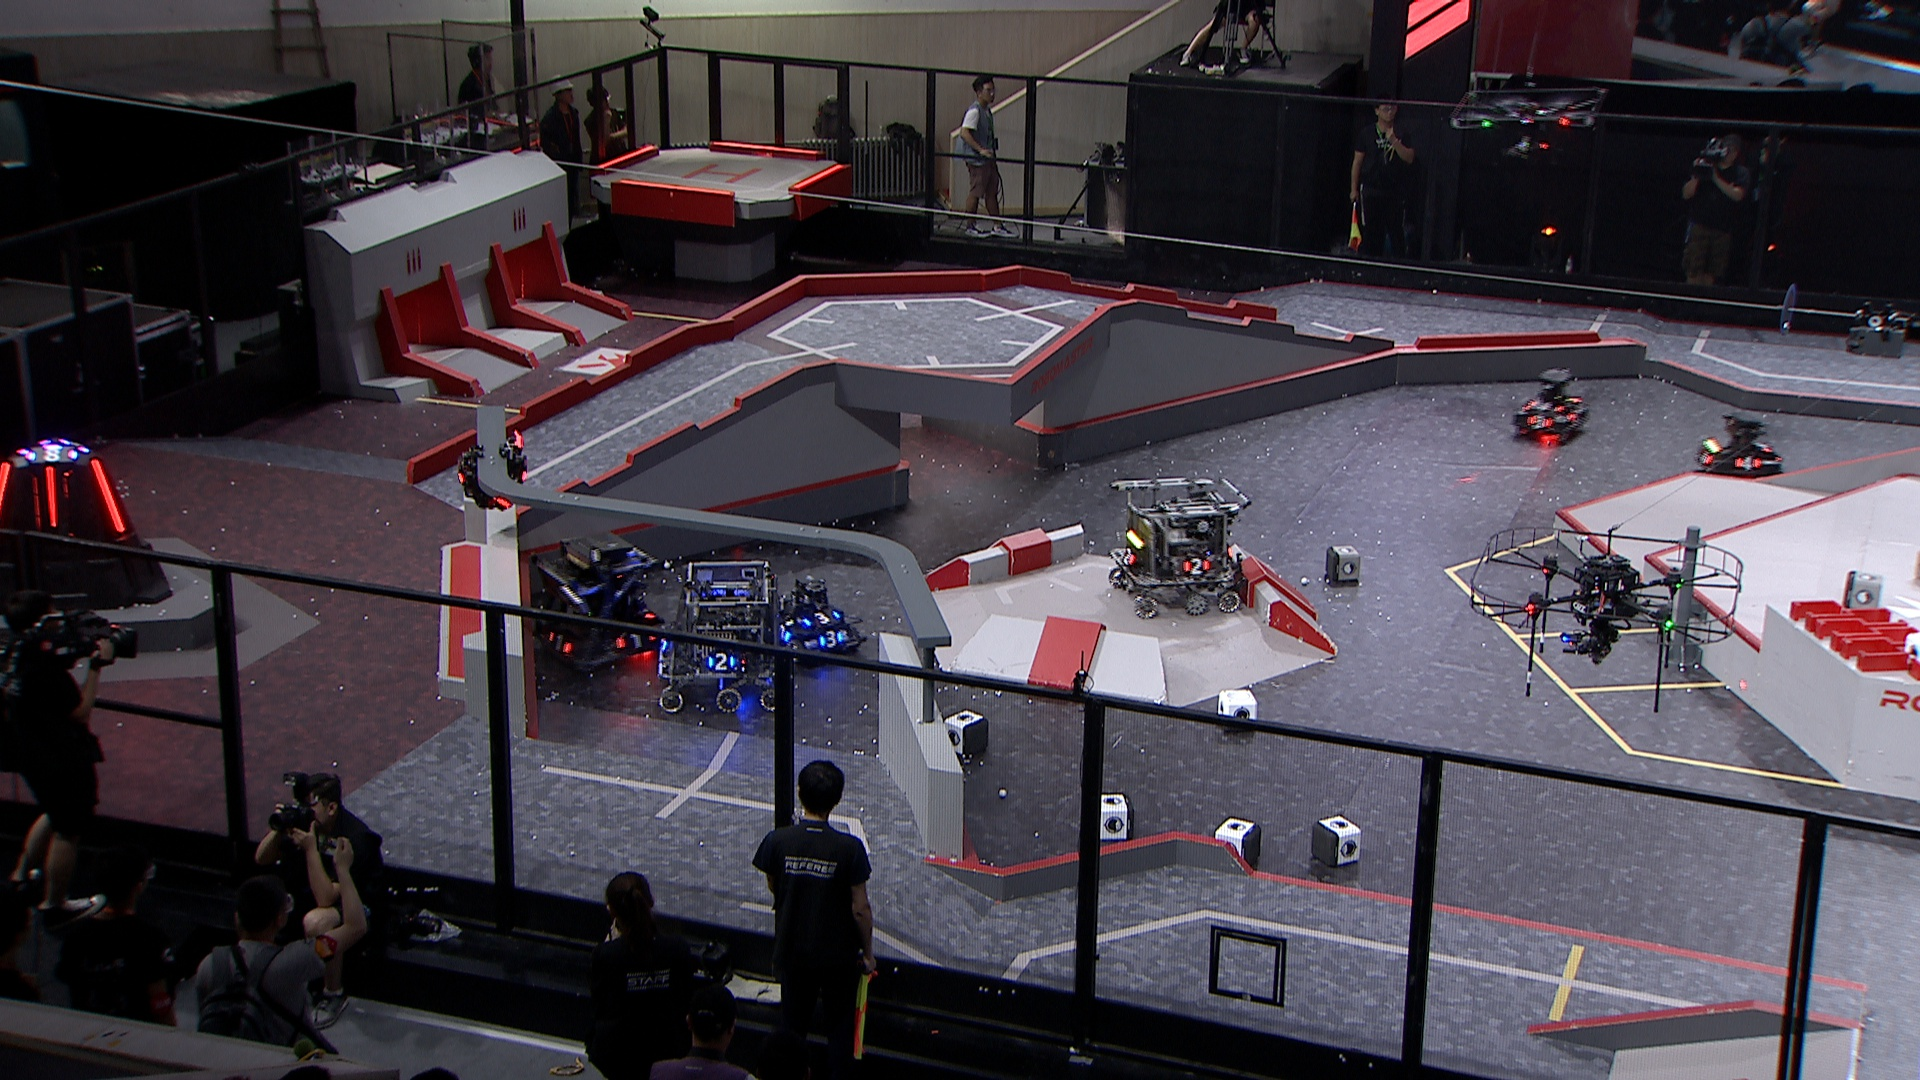armor: (88, 456, 125, 534), (41, 465, 58, 529), (618, 629, 657, 650), (704, 651, 738, 670), (32, 472, 41, 527), (1183, 556, 1209, 575), (1528, 414, 1552, 433), (549, 632, 568, 651), (1695, 448, 1712, 471), (1528, 400, 1560, 411), (823, 629, 847, 645), (1754, 439, 1774, 456), (807, 608, 837, 618), (1565, 405, 1581, 425), (1735, 458, 1762, 469), (1121, 549, 1138, 566), (655, 637, 669, 655)
car: (647, 560, 790, 719), (514, 531, 665, 674), (1102, 471, 1249, 615), (765, 580, 865, 659), (1689, 411, 1789, 488), (1510, 365, 1594, 440)
ignore: (26, 443, 76, 462)
watcher: (456, 425, 537, 514)
